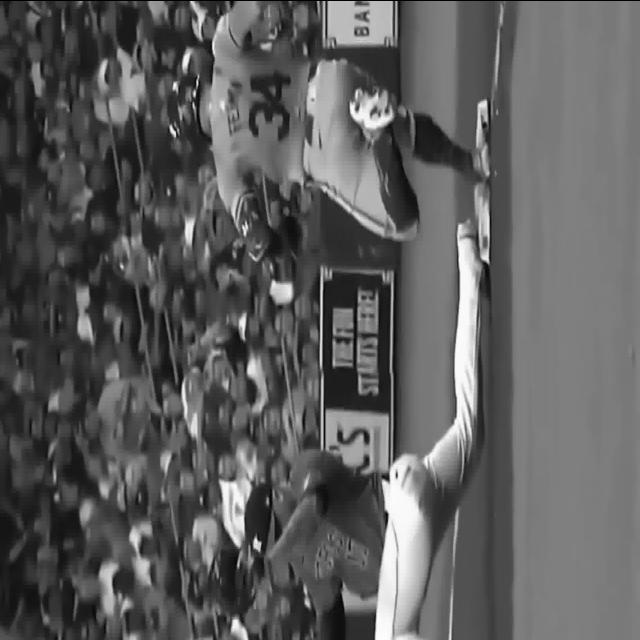base: (474, 98, 491, 262)
baseball_glove: (210, 547, 262, 609)
shoe: (350, 84, 398, 135), (470, 142, 491, 178), (456, 218, 478, 244)
